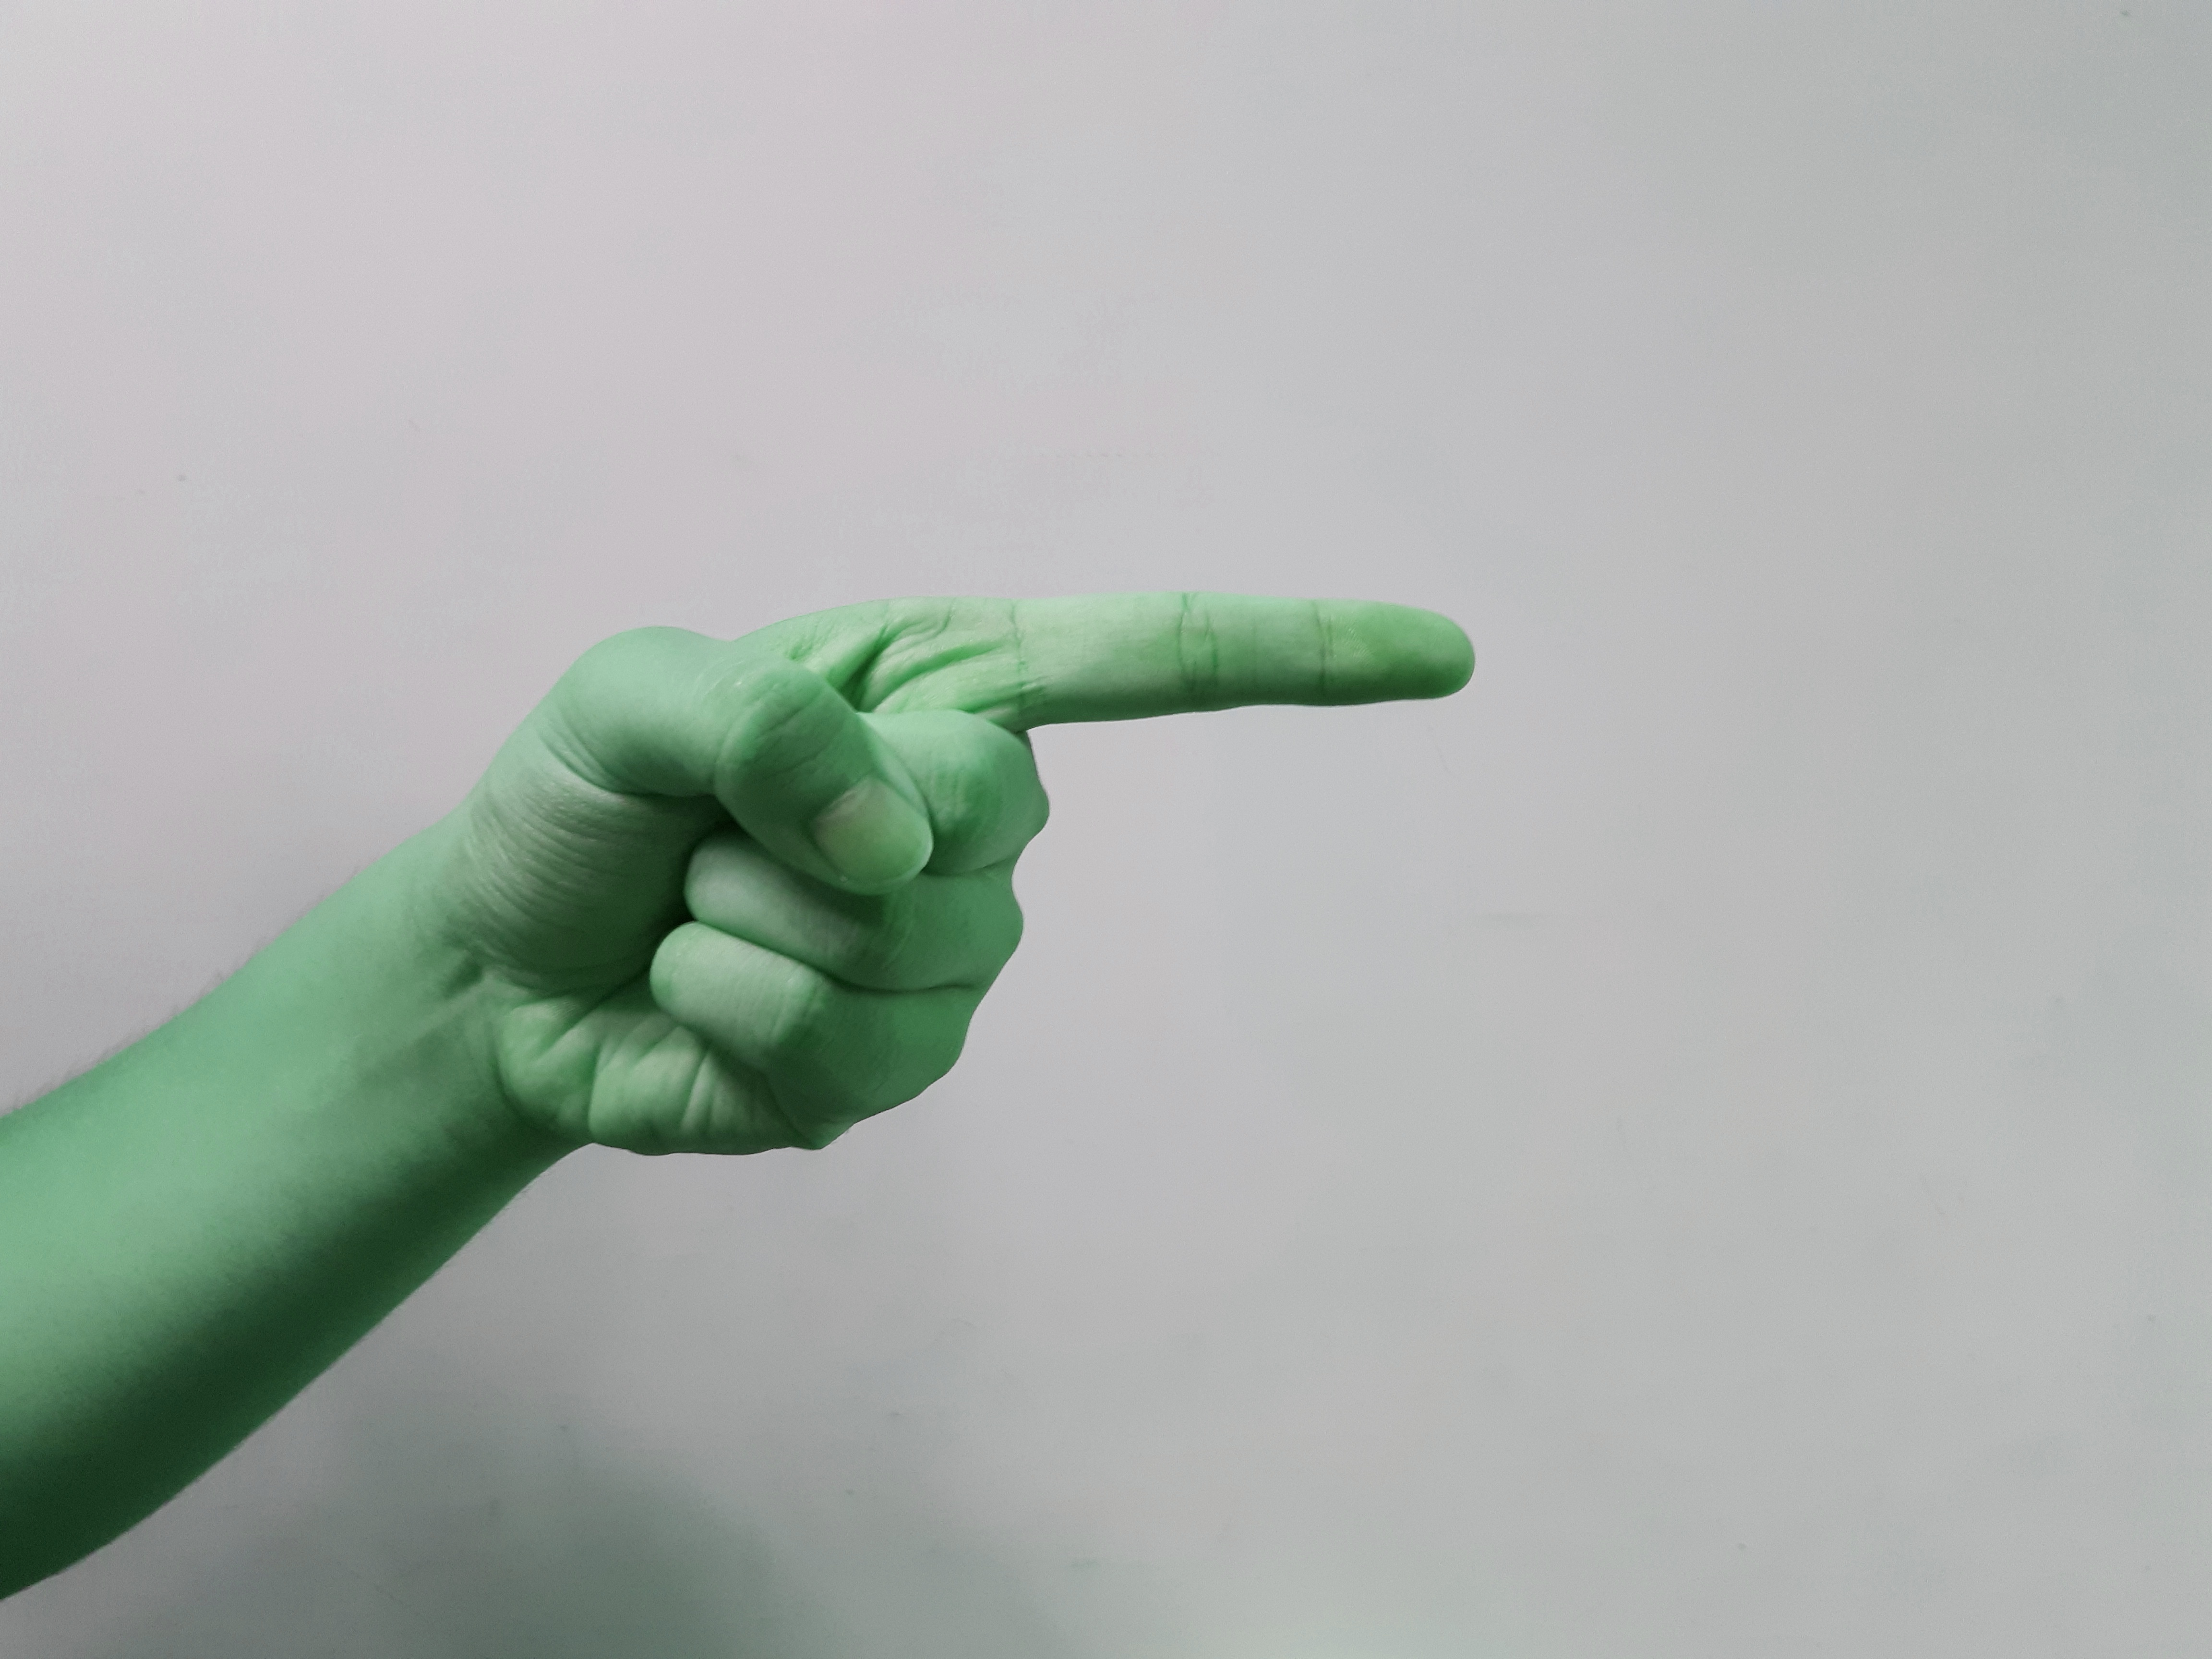right: (329, 547, 1554, 1204)
